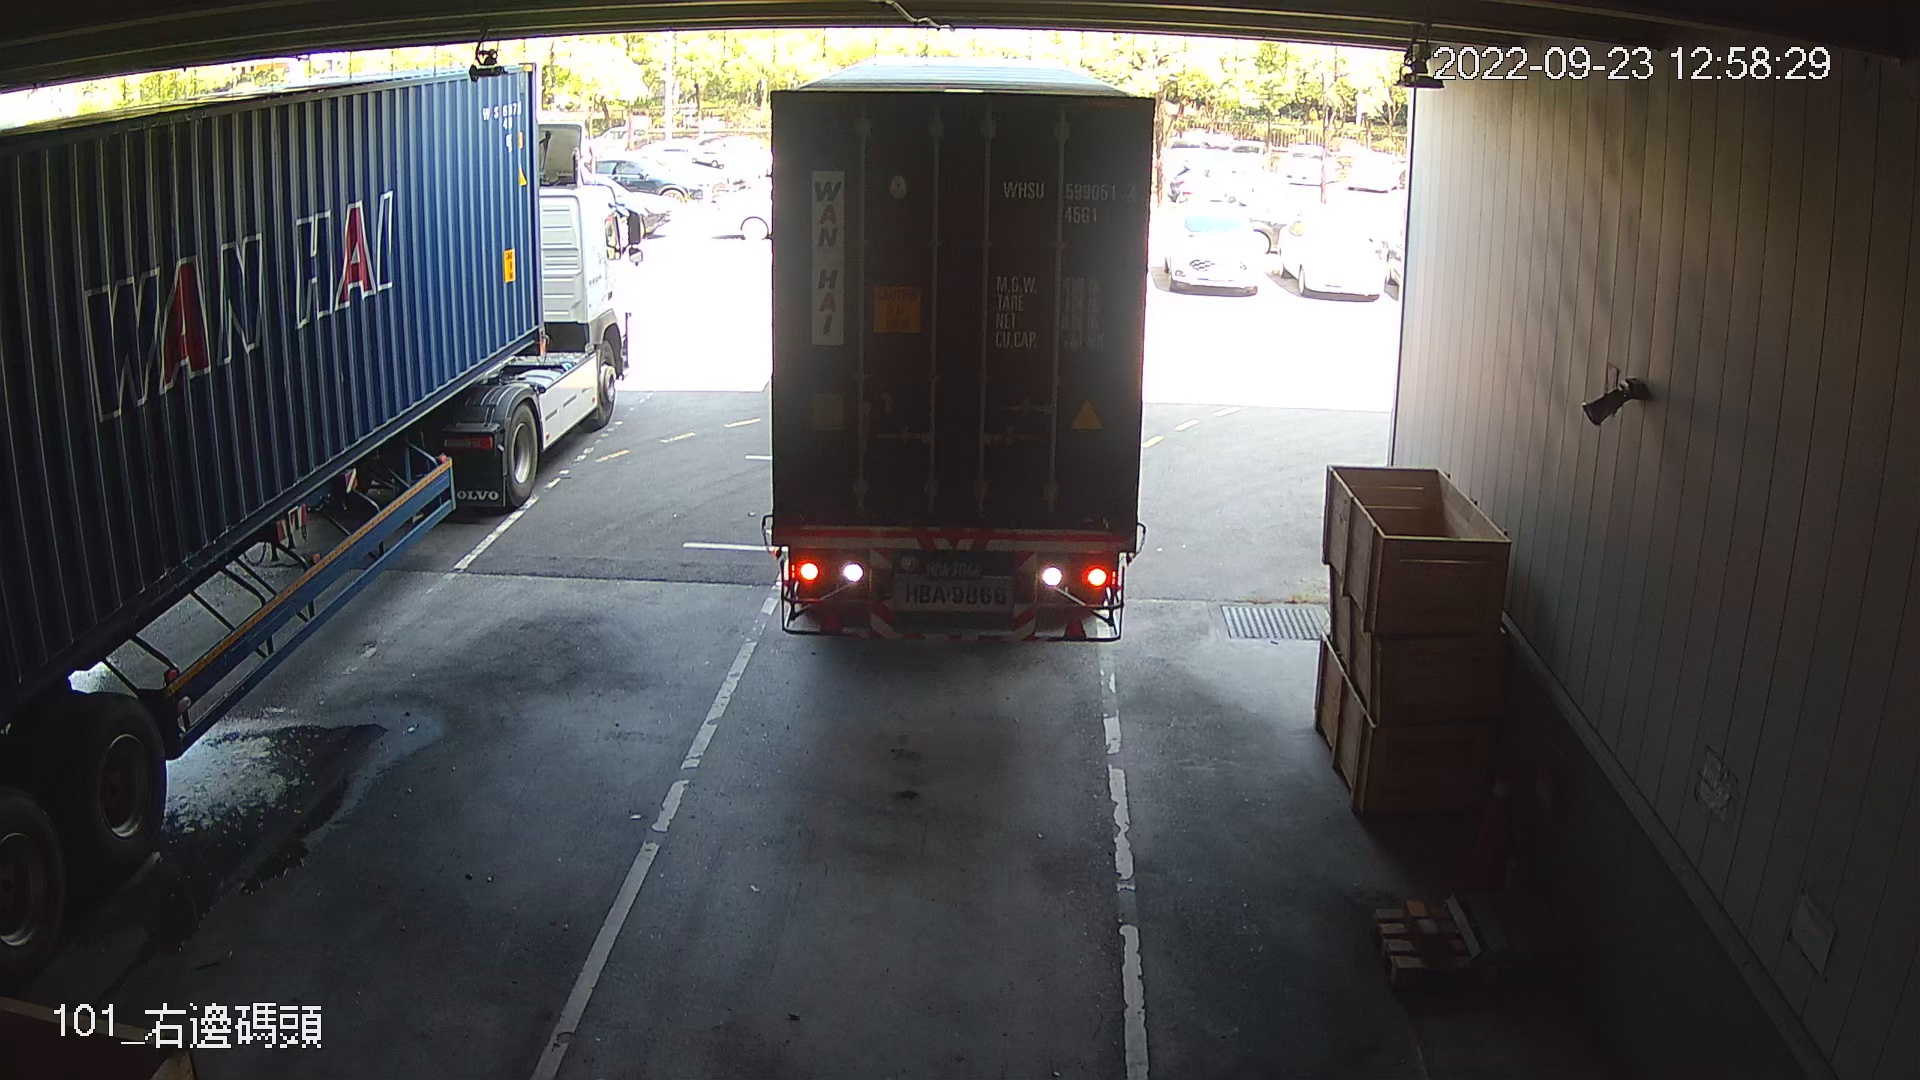container: (994, 171, 1147, 233)
